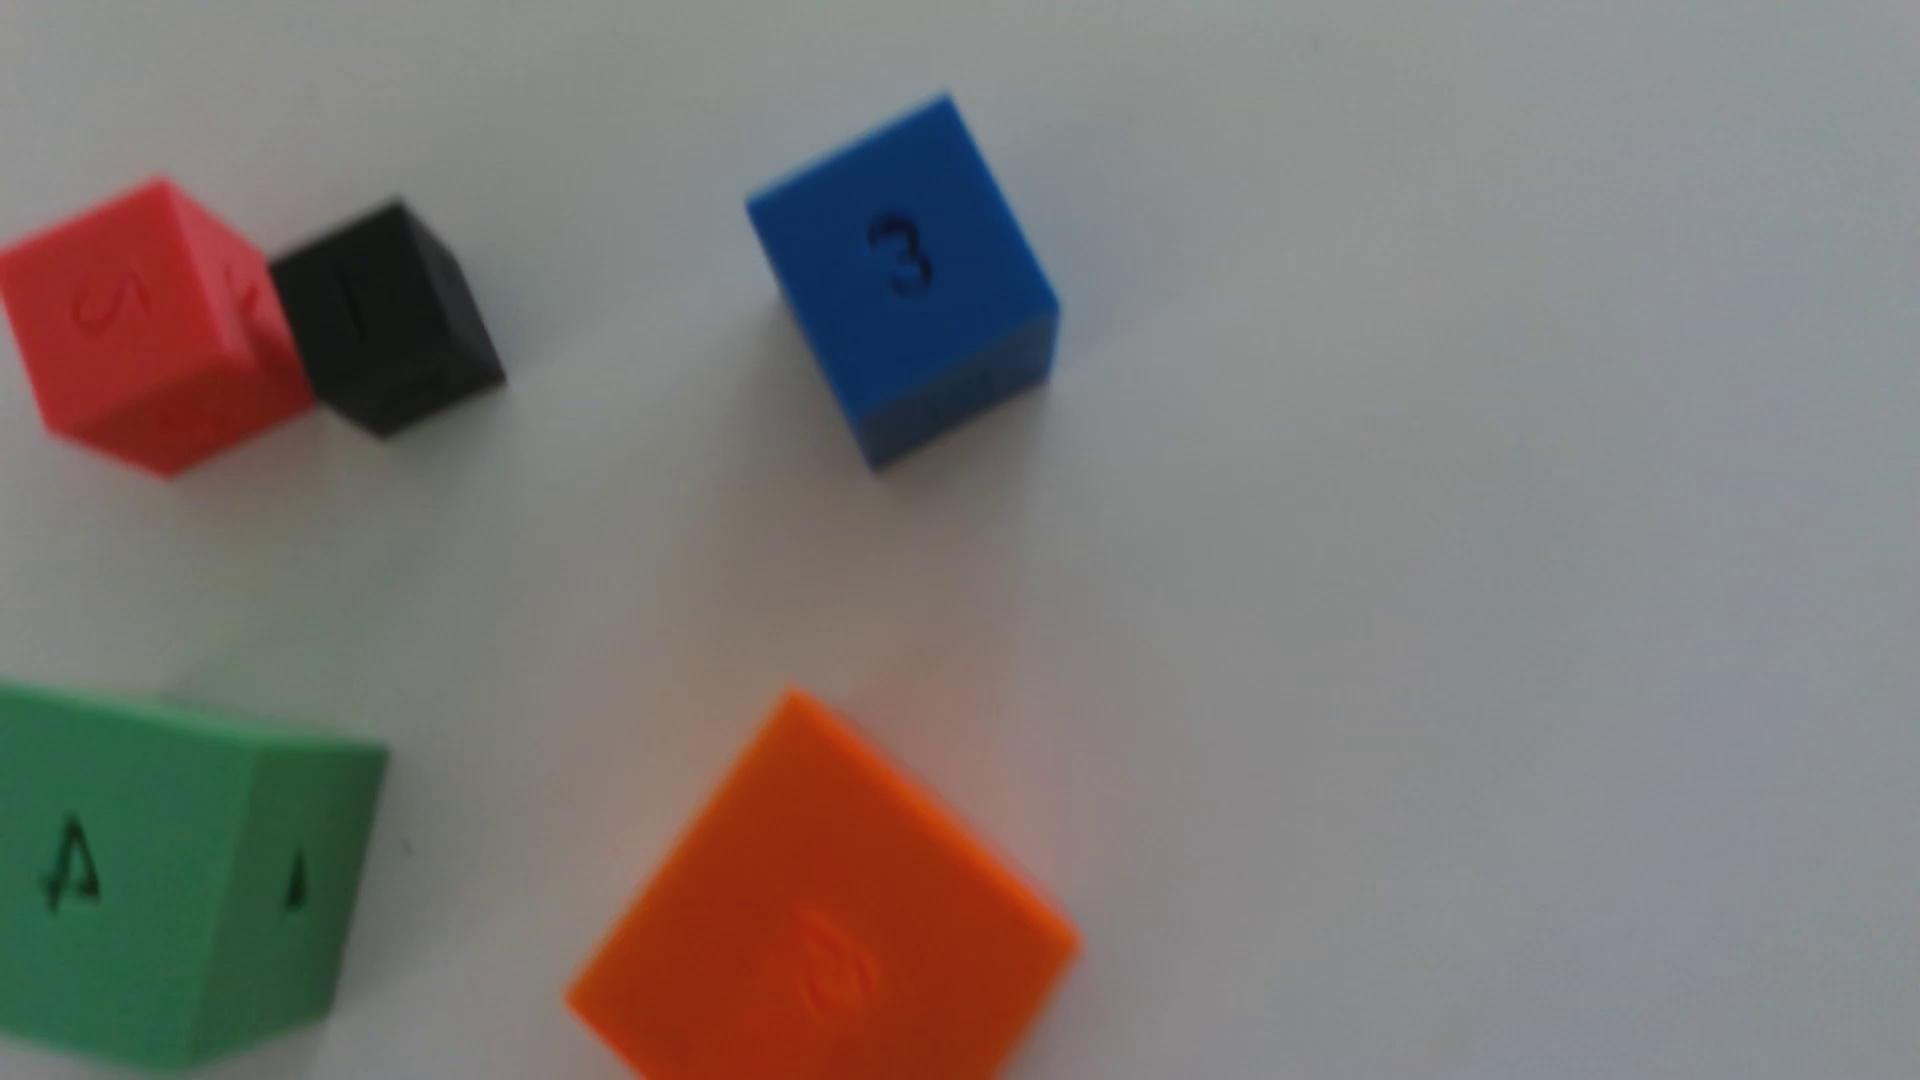black: (270, 202, 506, 440)
blue: (748, 99, 1060, 469)
green: (0, 684, 386, 1072)
orange: (568, 694, 1077, 1080)
red: (0, 179, 315, 479)
